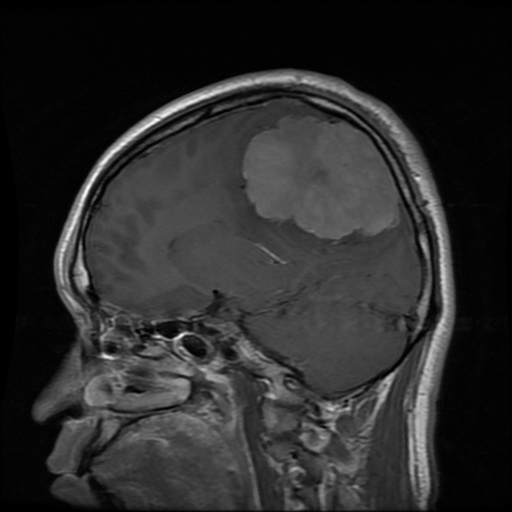meningioma: (244, 116, 402, 240)
